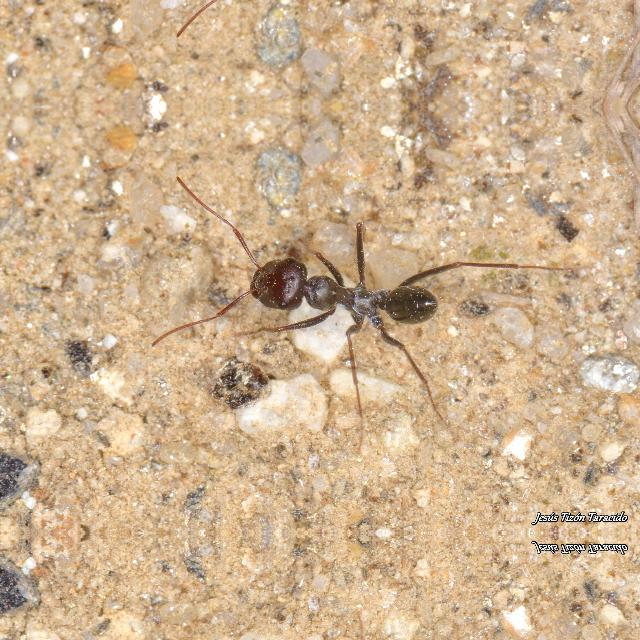Cataglyphis: (224, 238, 472, 350), (582, 468, 598, 484), (528, 512, 544, 526), (528, 539, 544, 553), (582, 582, 598, 596)
